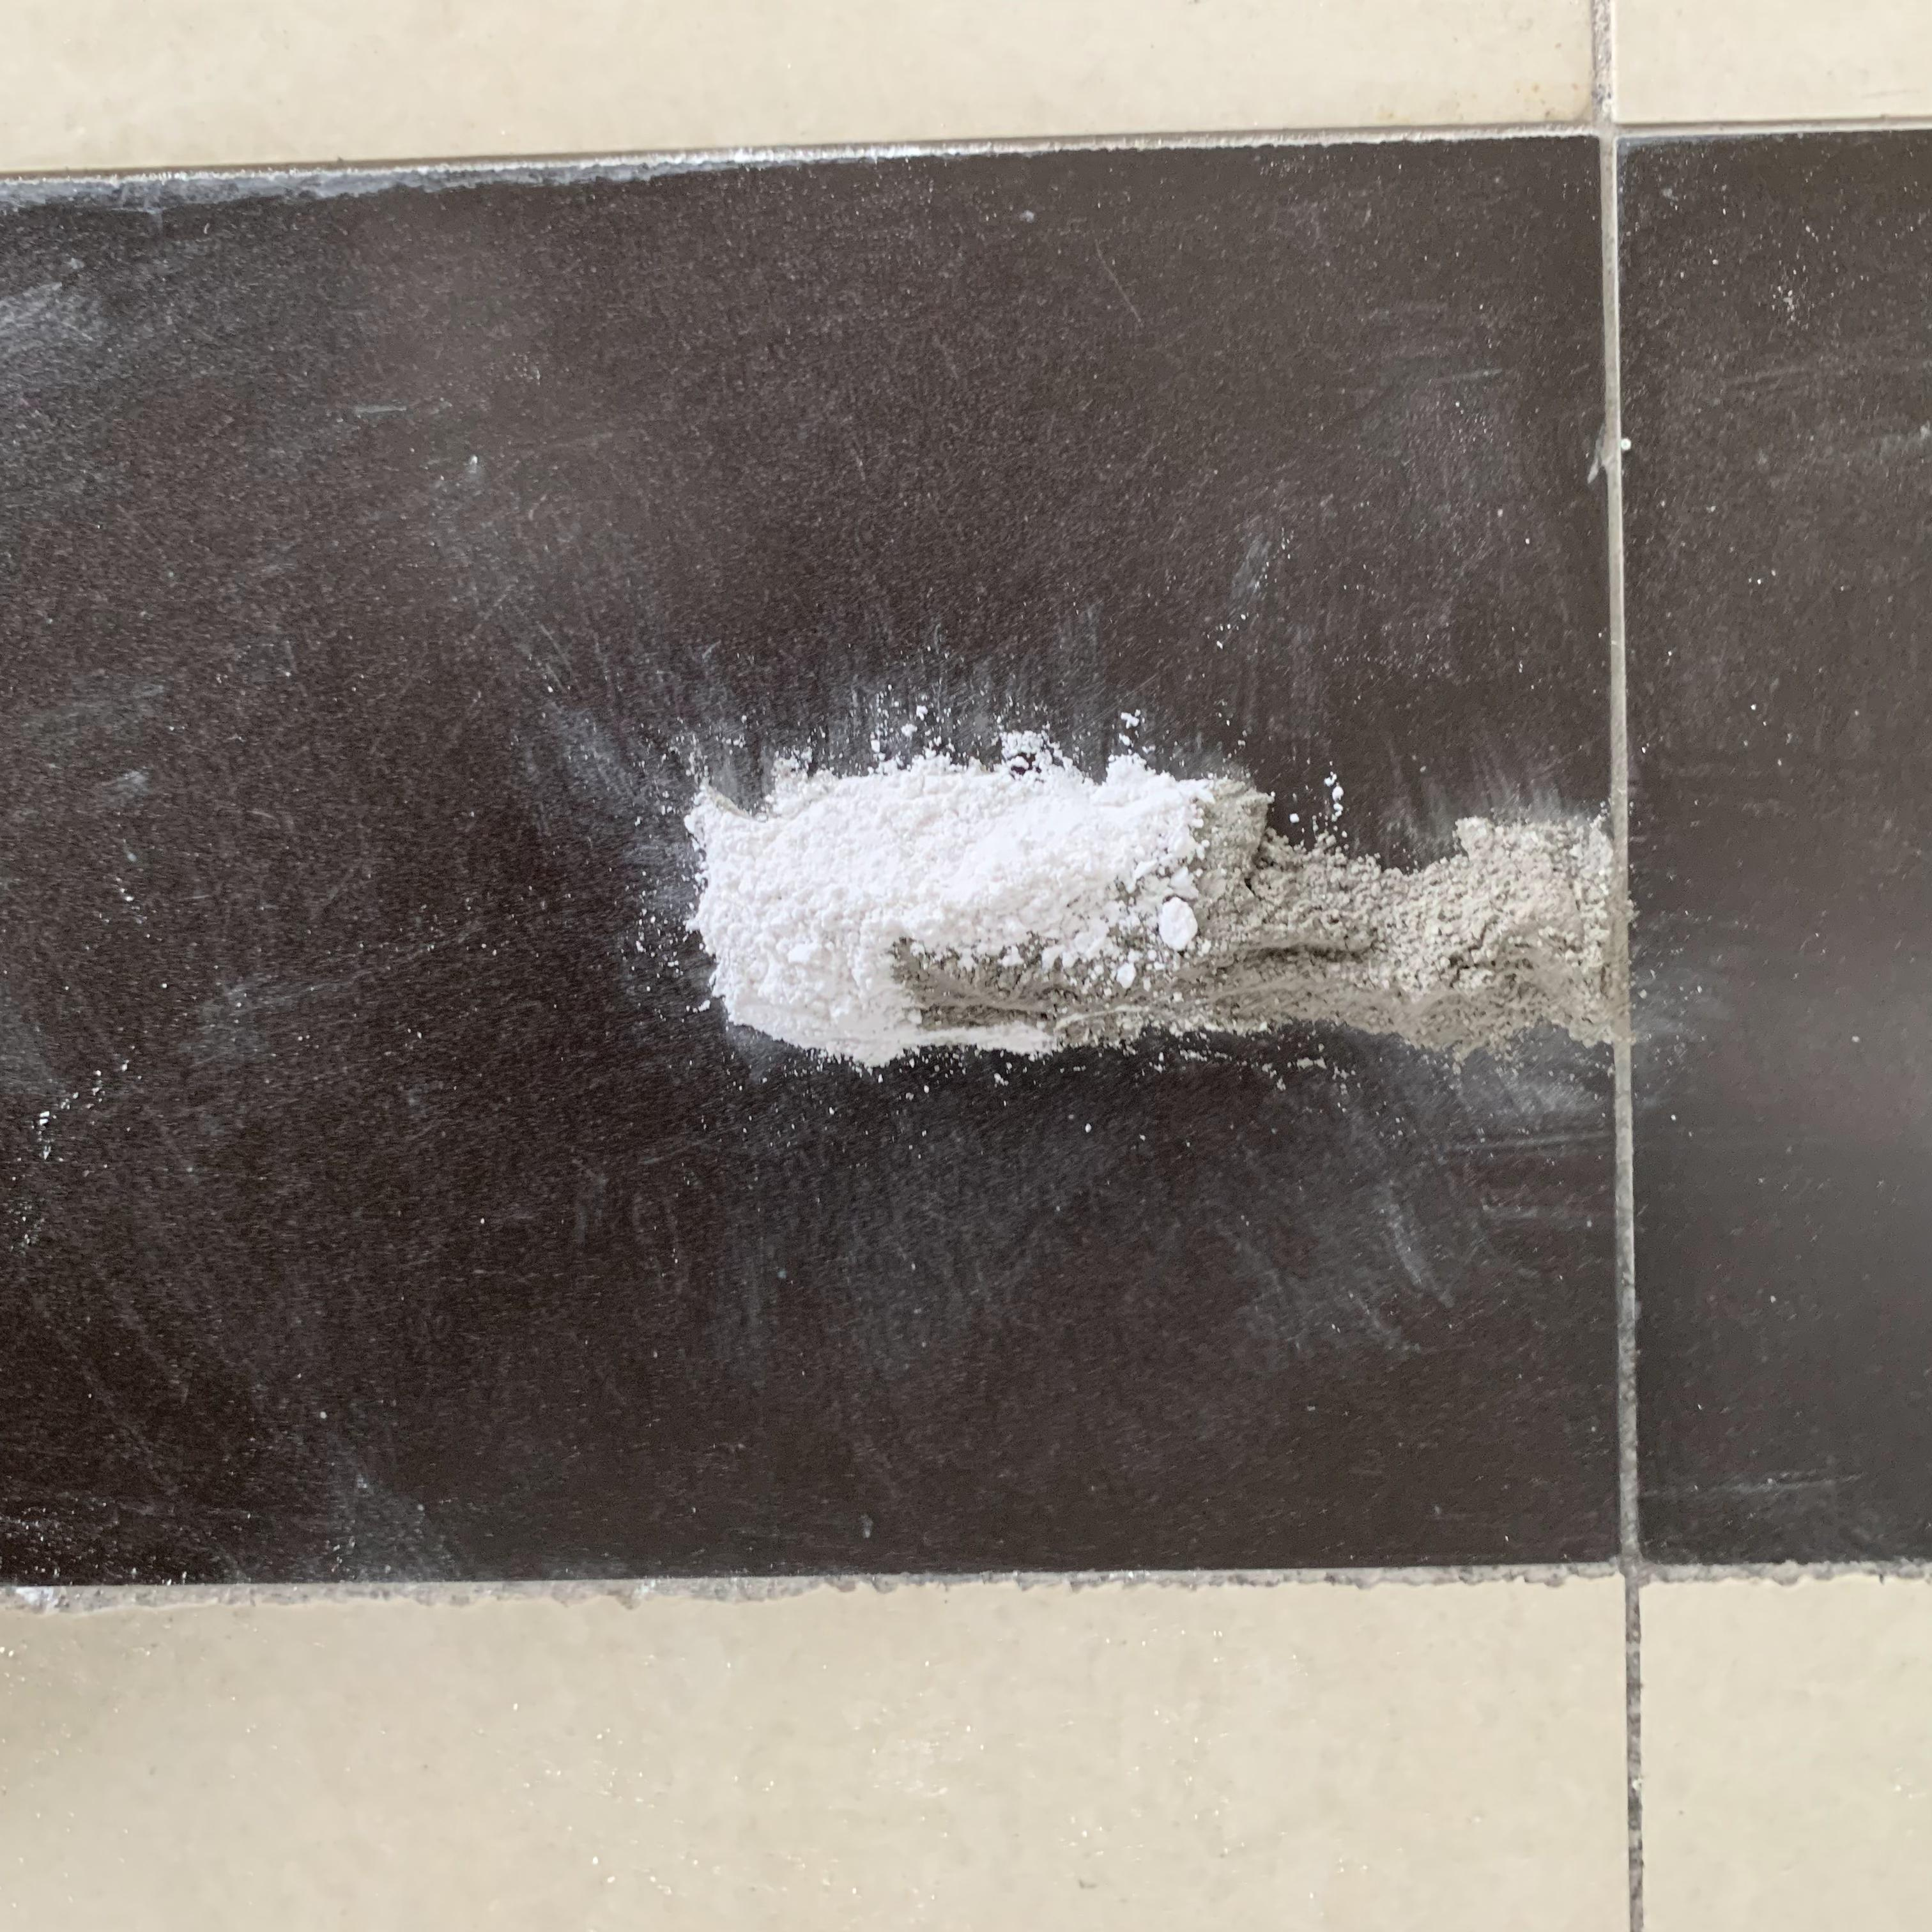ash pile: (649, 681, 1635, 1086)
